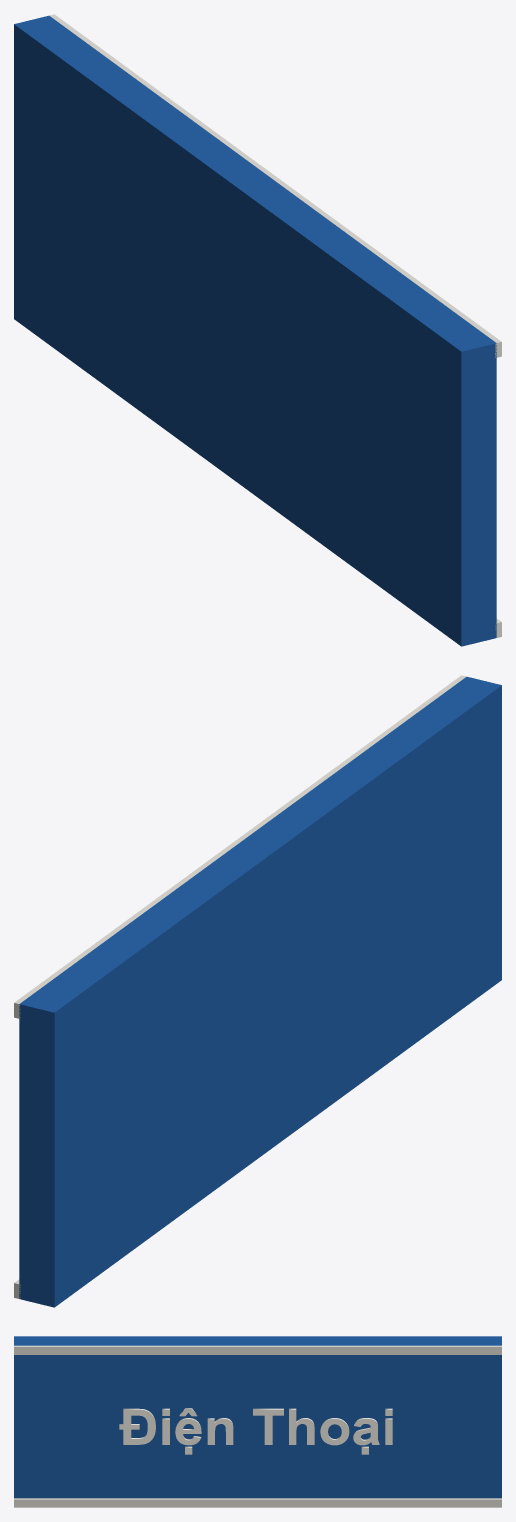
File: OW_Mau_Bang_5_0_10.fbx
The picture shows the model from 3 angles, top to bottom: view 1: azimuth 30°, elevation 25°; view 2: azimuth 150°, elevation 25°; view 3: azimuth 270°, elevation 25°; orthographic projection. The views are drawn at different scales.
Parts seen in each view (by area): view 1: OW_Bang_Điện Thoại.001; view 2: OW_Bang_Điện Thoại.001; view 3: OW_Bang_Điện Thoại.001, Chữ • Điện Thoại.001_Mesh.
Part boxes in pixels (x1,y1,x2,y2): OW_Bang_Điện Thoại.001: (14,14,501,646); OW_Bang_Điện Thoại.001: (14,675,501,1307); OW_Bang_Điện Thoại.001: (14,1336,501,1507); Chữ • Điện Thoại.001_Mesh: (119,1408,392,1454).
Size of the model in its own units: 0.24 by 1.6 by 4.4.
